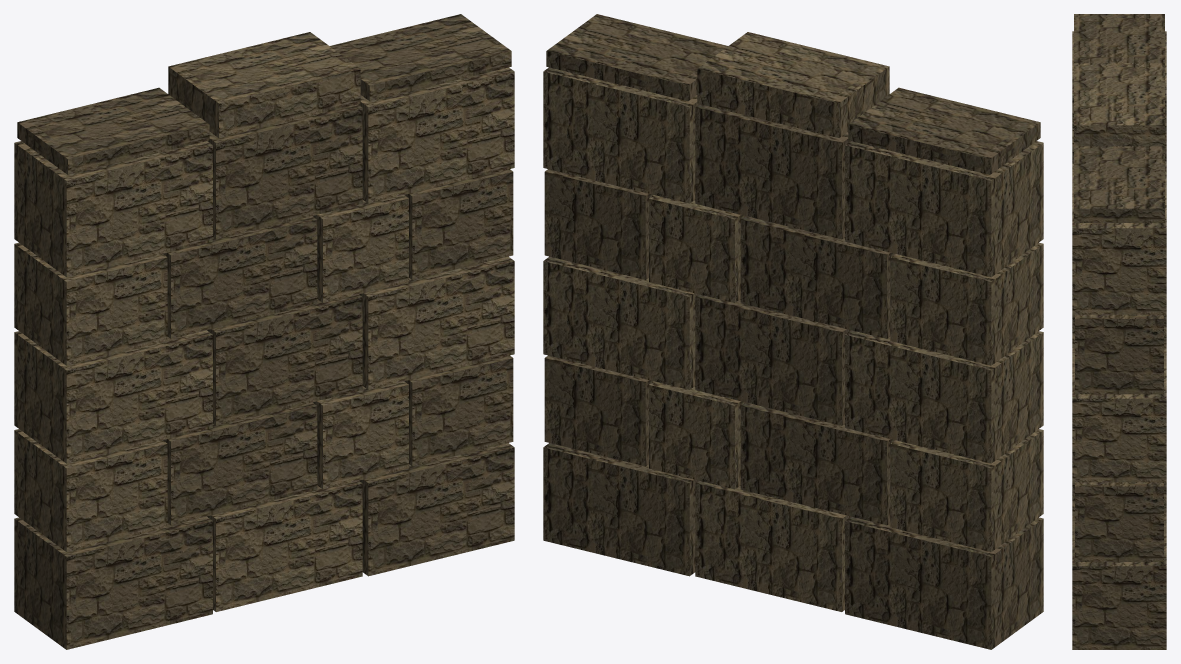
The model's file is wall_piece_01.glb.
3 views of the same model, side by side, from view 1: azimuth 30°, elevation 25°; view 2: azimuth 150°, elevation 25°; view 3: azimuth 270°, elevation 25° (orthographic). The views are drawn at different scales.
Parts seen in each view (by area): view 1: wall_piece_01; view 2: wall_piece_01; view 3: wall_piece_01.
Boxes of the visible parts, x1,y1,x2,y2 form: wall_piece_01: (14, 14, 514, 649); wall_piece_01: (543, 14, 1043, 649); wall_piece_01: (1072, 14, 1166, 649).
Bounding box in the file's own units: 2.97 × 3.22 × 0.6.
2 materials, 2 textured.
